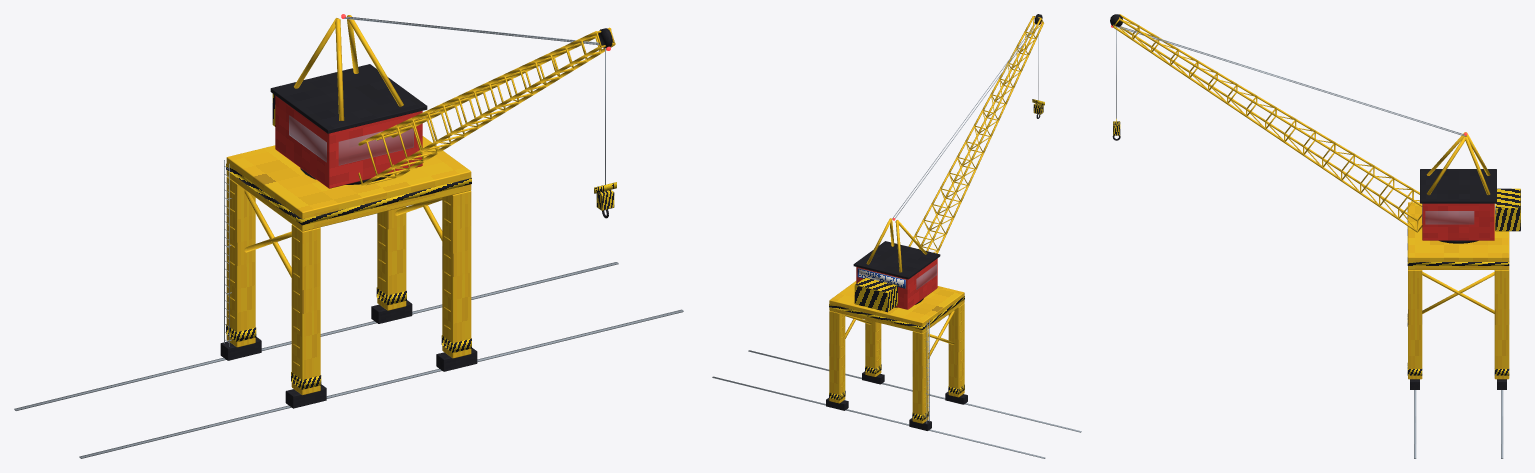
Rendered from p_pj_crane.glb.
The picture shows the model from 3 angles, left to right: view 1: azimuth 30°, elevation 25°; view 2: azimuth 150°, elevation 25°; view 3: azimuth 270°, elevation 25°; orthographic projection. The views are drawn at different scales.
Parts seen in each view (by area): view 1: p_pj_crane_lod0; view 2: p_pj_crane_lod0; view 3: p_pj_crane_lod0.
Part boxes in pixels (left/top/right/bottom): p_pj_crane_lod0: left=14, top=14, right=683, bottom=458; p_pj_crane_lod0: left=712, top=14, right=1081, bottom=458; p_pj_crane_lod0: left=1110, top=14, right=1520, bottom=458.
Size of what is drawn, in the model's own units: 32 by 26.35 by 28.35.
3 materials, 1 textured.
